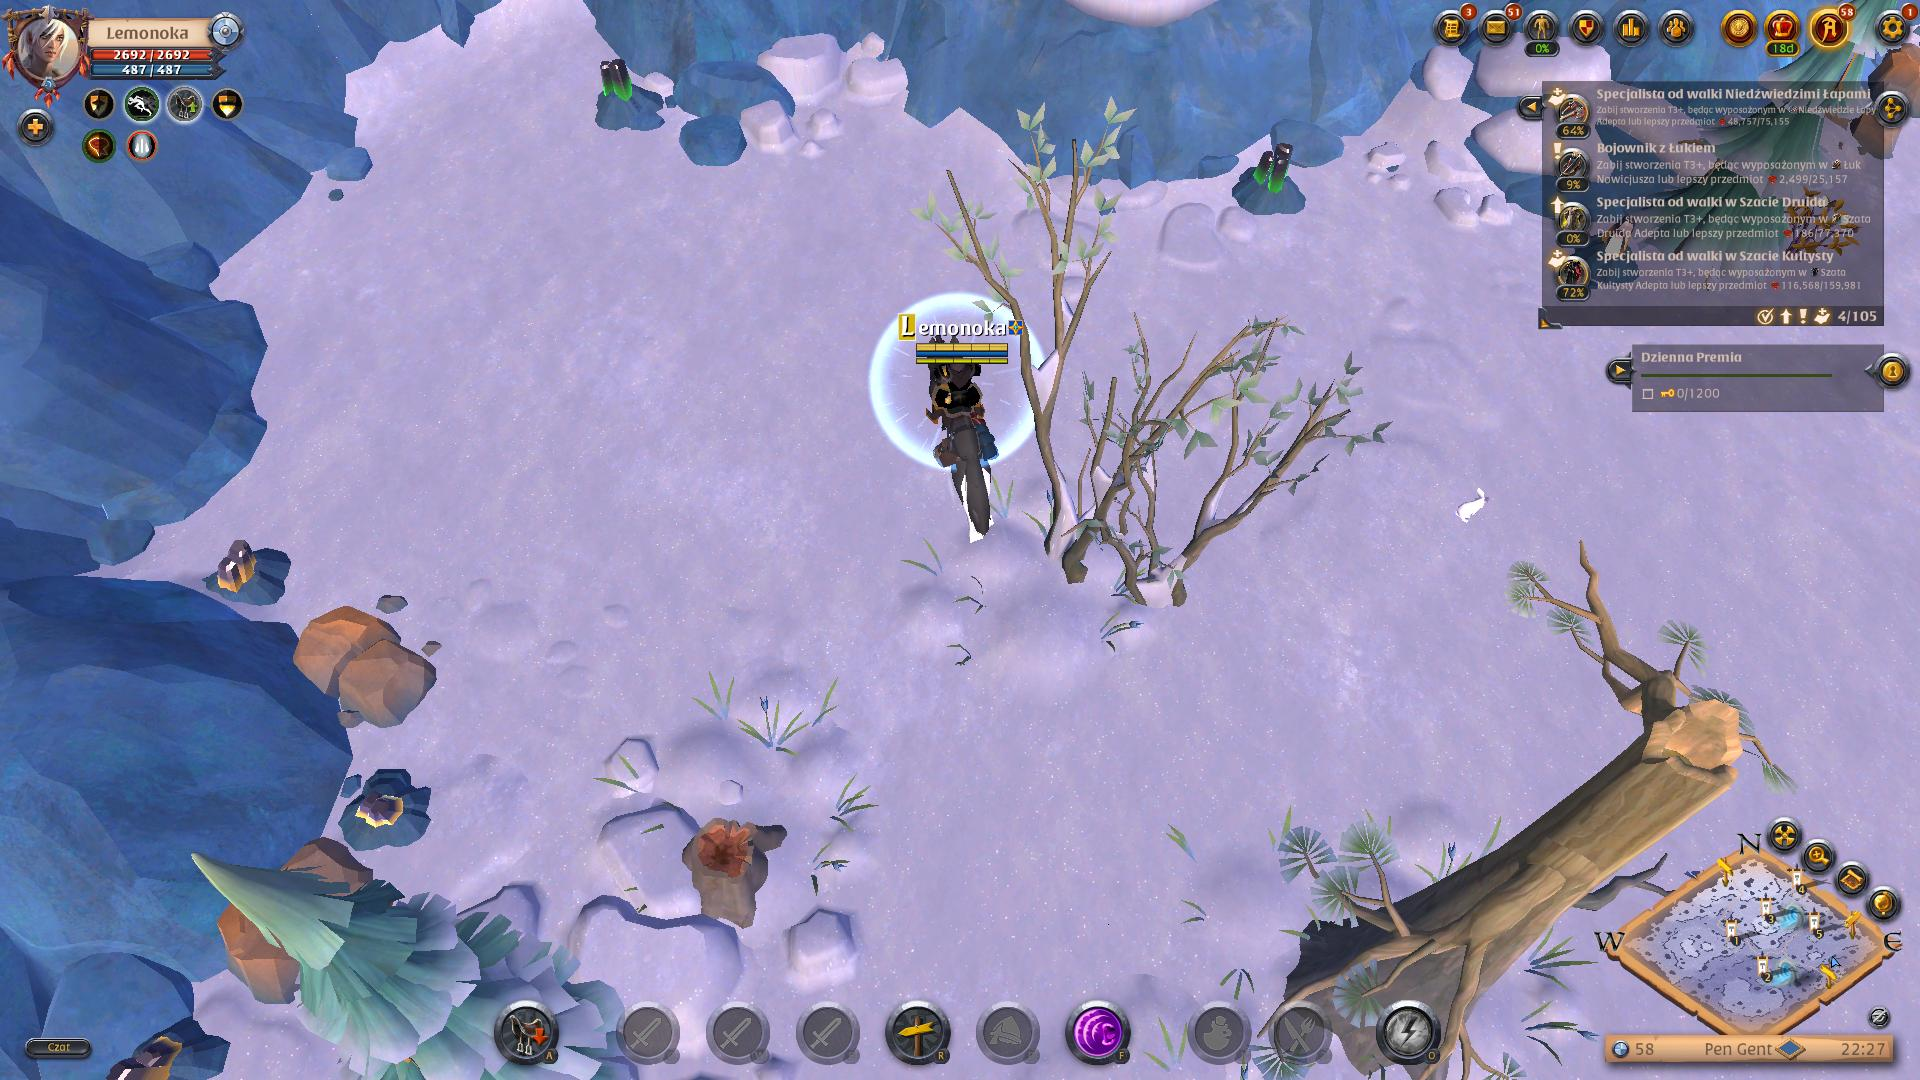ore tier 2: (335, 757, 444, 860), (207, 538, 298, 613)
ore tier 3: (1226, 138, 1315, 229), (592, 50, 669, 141)
rock tier 2: (286, 596, 452, 733)
